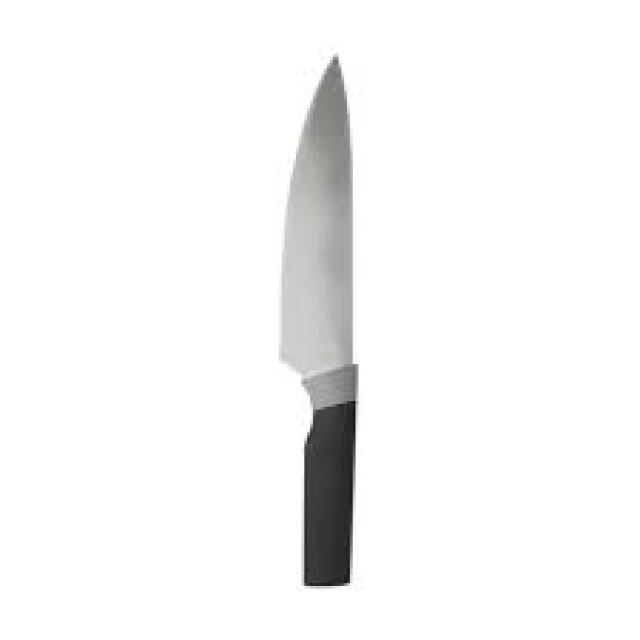knife: (274, 51, 368, 600)
